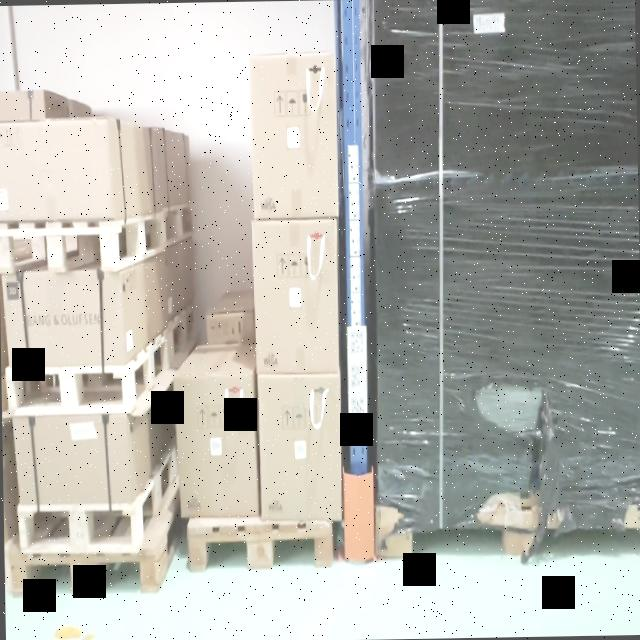box: (250, 59, 338, 215), (250, 221, 338, 373), (259, 375, 341, 520), (177, 379, 259, 520), (6, 276, 129, 366), (12, 418, 132, 505)
